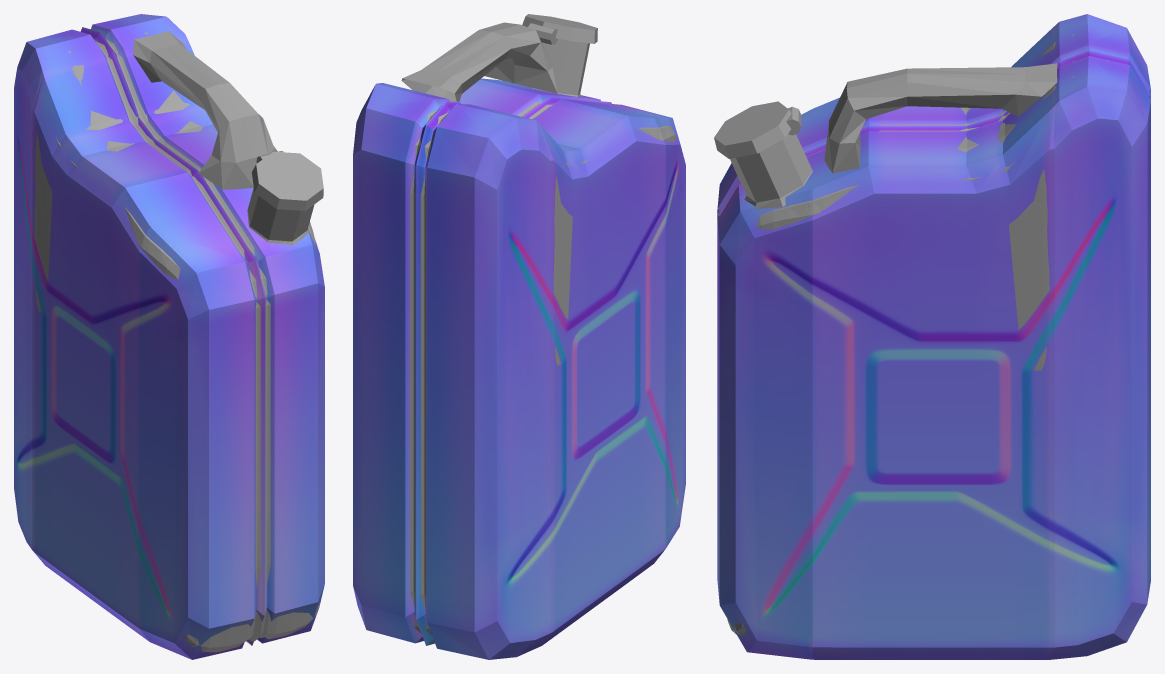
File: Jerry.obj
The picture shows the model from 3 angles, left to right: view 1: azimuth 30°, elevation 25°; view 2: azimuth 150°, elevation 25°; view 3: azimuth 270°, elevation 25°; orthographic projection. The views are drawn at different scales.
Parts seen in each view (by area): view 1: jerry_l_Cube.008, jerry_h_Cube.001, Cube.002_Cube.005, Cube.000_Cube.004; view 2: jerry_l_Cube.008, jerry_h_Cube.001, Cube.002_Cube.005, Cube.000_Cube.004; view 3: jerry_l_Cube.008, Cube.002_Cube.005, Cube.000_Cube.004, jerry_h_Cube.001.
Boxes of the visible parts, x1,y1,x2,y2 form: jerry_l_Cube.008: [14, 14, 324, 659]; jerry_h_Cube.001: [34, 31, 319, 652]; Cube.002_Cube.005: [133, 31, 277, 189]; Cube.000_Cube.004: [247, 151, 323, 245]; jerry_l_Cube.008: [353, 78, 685, 659]; jerry_h_Cube.001: [410, 91, 676, 635]; Cube.002_Cube.005: [401, 22, 557, 101]; Cube.000_Cube.004: [522, 14, 597, 96]; jerry_l_Cube.008: [717, 14, 1150, 659]; Cube.002_Cube.005: [824, 63, 1057, 173]; Cube.000_Cube.004: [714, 101, 812, 209]; jerry_h_Cube.001: [727, 34, 1108, 653].
Size of the model in its own units: 0.5312 by 1.53 by 1.06.
